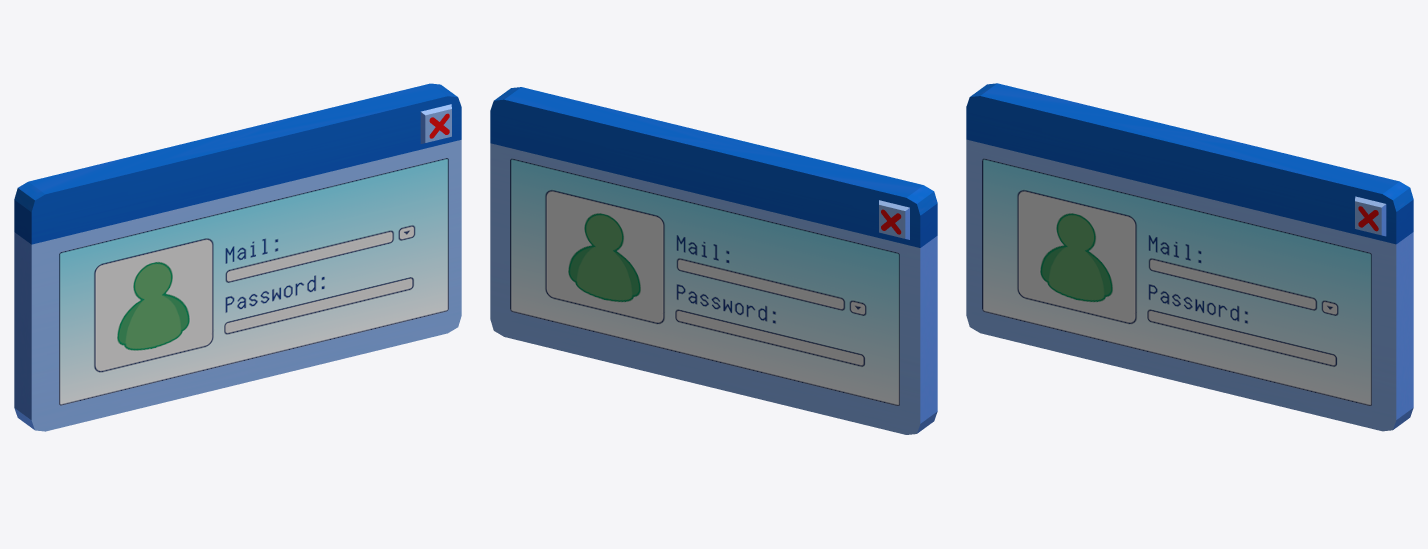
The model's file is SM_WebProfileWall.fbx.
The picture shows the model from 3 angles, left to right: view 1: azimuth 30°, elevation 25°; view 2: azimuth 150°, elevation 25°; view 3: azimuth 330°, elevation 25°; orthographic projection.
Visible parts, largest first — view 1: SM_WebProfileWall; view 2: SM_WebProfileWall; view 3: SM_WebProfileWall.
Boxes of the visible parts, x1,y1,x2,y2 form: SM_WebProfileWall: (14, 83, 461, 431); SM_WebProfileWall: (490, 87, 937, 434); SM_WebProfileWall: (966, 83, 1413, 431).
Bounding box in the file's own units: 83.64 × 74.85 × 8.75.
